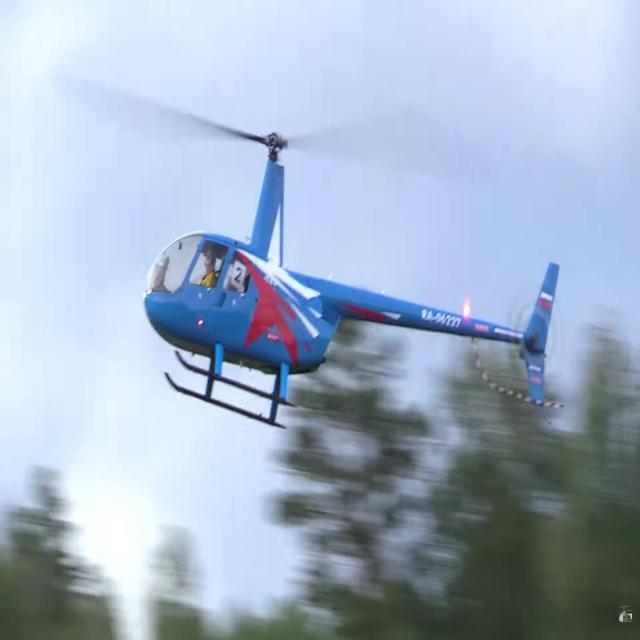CIV_HELO: (141, 128, 565, 434)
